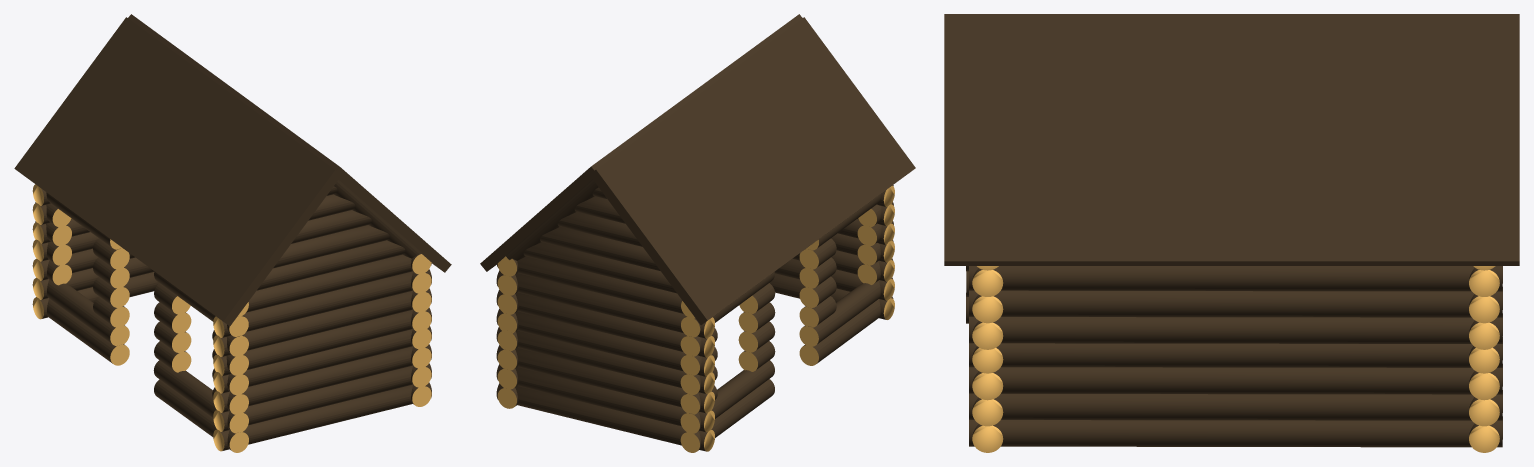
File: WoodenCabin.fbx
3 renders of one model, left to right at view 1: azimuth 30°, elevation 25°; view 2: azimuth 150°, elevation 25°; view 3: azimuth 270°, elevation 25°, orthographic. The views are drawn at different scales.
Visible parts, largest first — view 1: Cylinder.063; view 2: Cylinder.063; view 3: Cylinder.063.
Part boxes in pixels (x1,y1,x2,y2): Cylinder.063: (14, 14, 451, 452); Cylinder.063: (480, 14, 915, 452); Cylinder.063: (944, 14, 1519, 452).
Size of the model in its own units: 1944 by 2190 by 3080.
